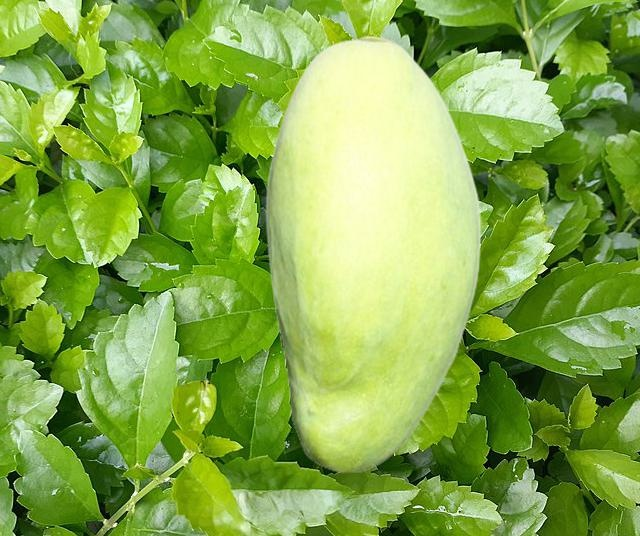green_mango: (265, 35, 480, 472)
